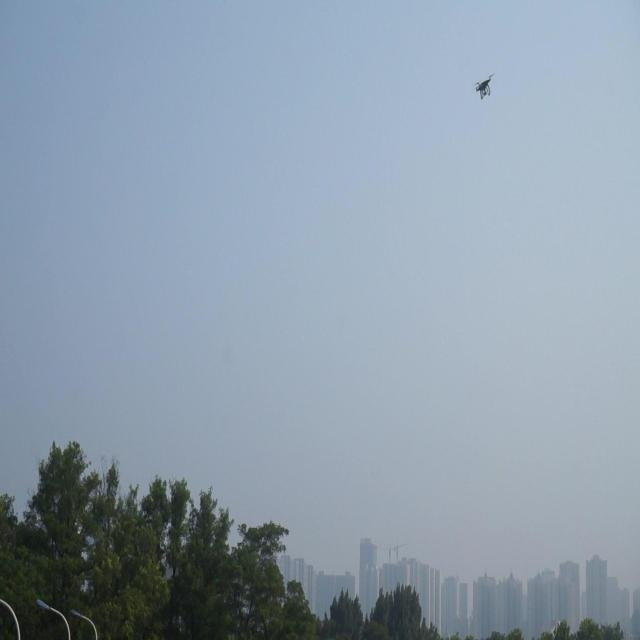drone: (472, 68, 496, 102)
